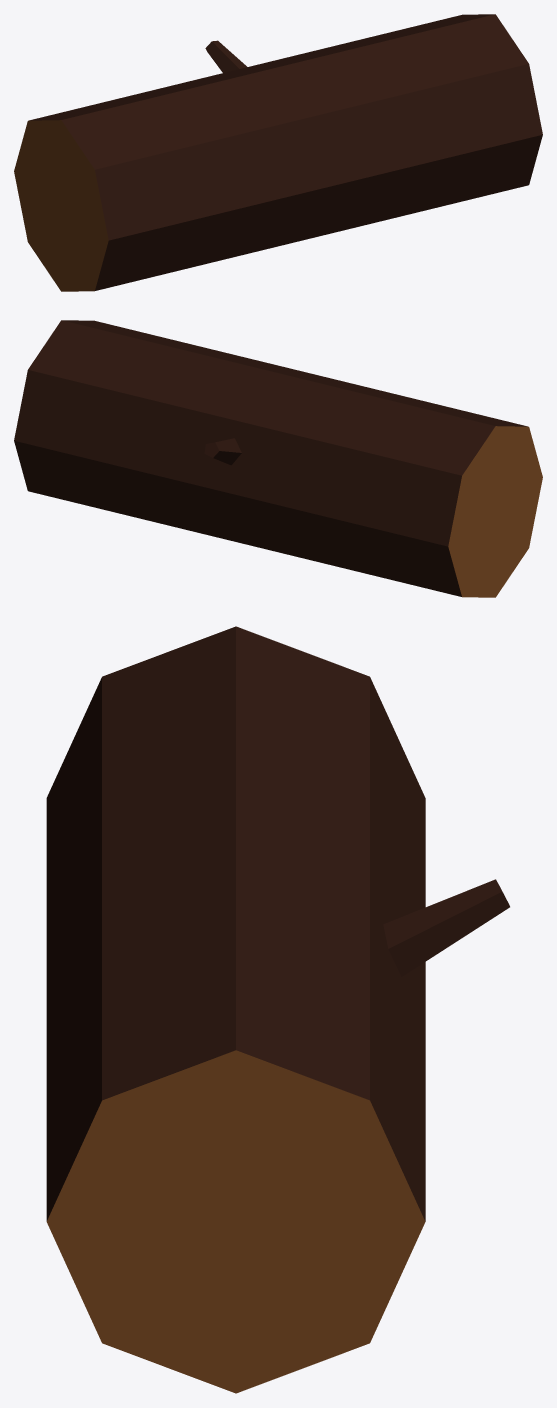
File: Log_Whole_03.fbx
3 views of the same model, one above another, from view 1: azimuth 30°, elevation 25°; view 2: azimuth 150°, elevation 25°; view 3: azimuth 270°, elevation 25° (orthographic). The views are drawn at different scales.
Parts seen in each view (by area): view 1: Log_Whole_03_Mesh; view 2: Log_Whole_03_Mesh; view 3: Log_Whole_03_Mesh.
Boxes of the visible parts, x1,y1,x2,y2 form: Log_Whole_03_Mesh: (14, 14, 542, 291); Log_Whole_03_Mesh: (14, 320, 542, 597); Log_Whole_03_Mesh: (46, 626, 509, 1393).
Bounding box in the file's own units: 1.8 × 0.68 × 0.8323.
Materials: 1 (1 with a texture image).
